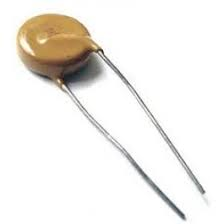ceramic capacitor: (5, 4, 130, 120)
